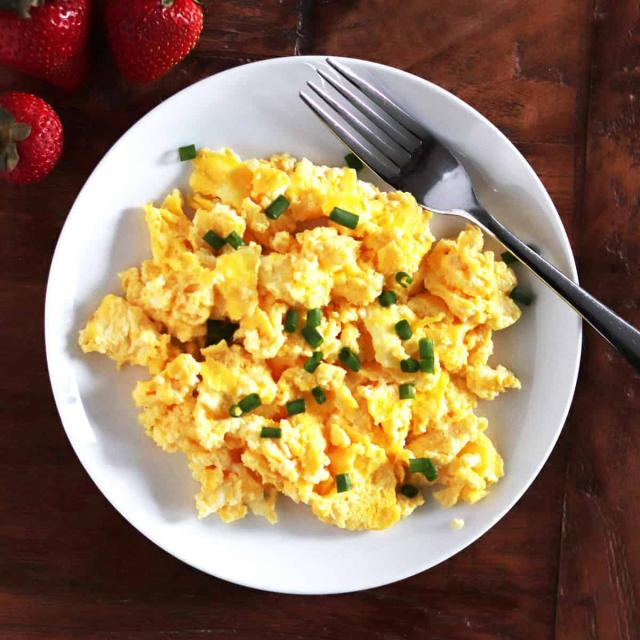eggs: (104, 157, 502, 496)
